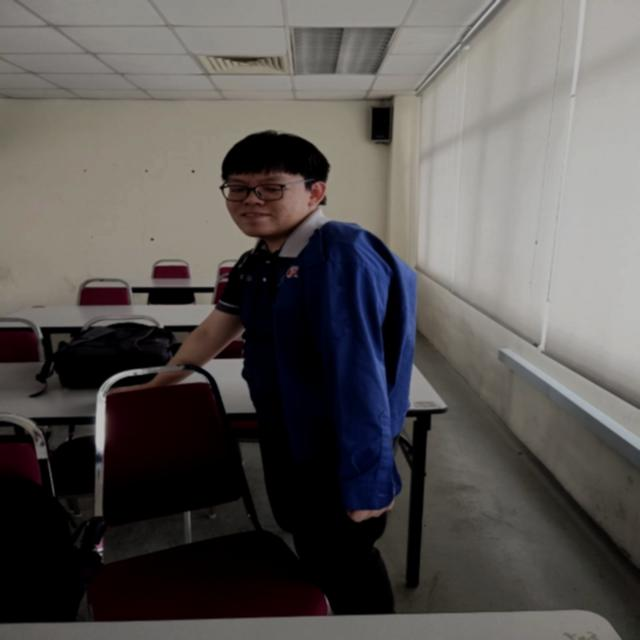person_without_labcoat: (170, 131, 415, 614)
